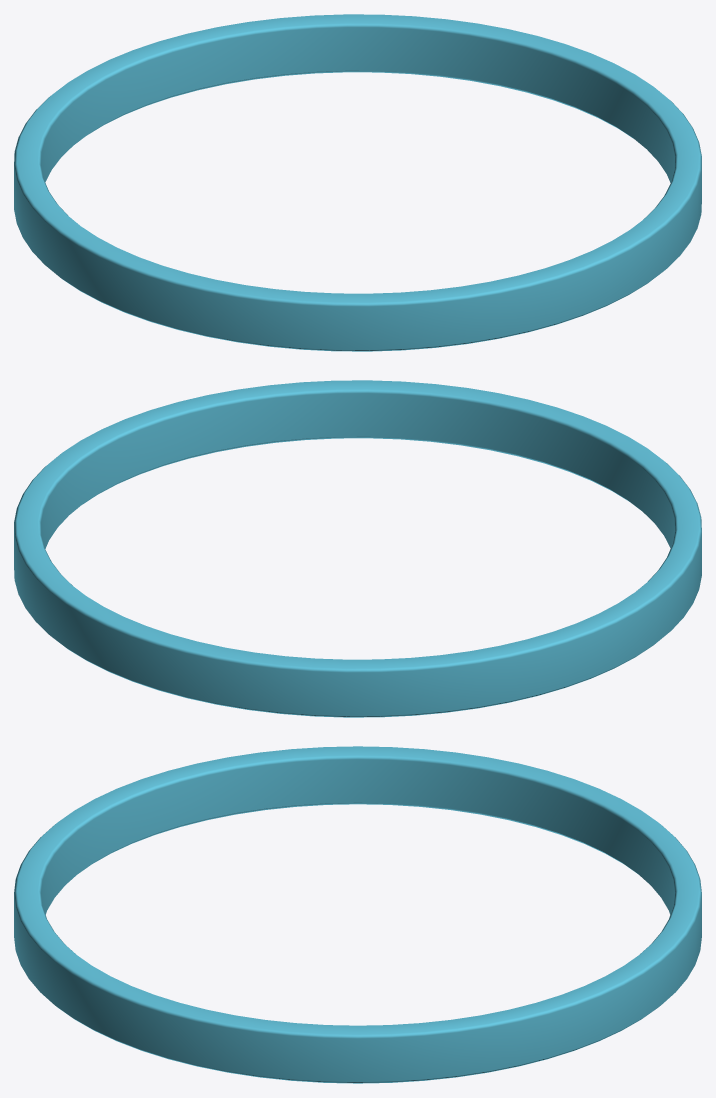
3 renders of one model, top to bottom at view 1: azimuth 30°, elevation 25°; view 2: azimuth 150°, elevation 25°; view 3: azimuth 270°, elevation 25°, orthographic.
Parts seen in each view (by area): view 1: seal_body; view 2: seal_body; view 3: seal_body.
Part boxes in pixels (x1=…): seal_body: x1=14, y1=14, x2=701, y2=351; seal_body: x1=14, y1=380, x2=701, y2=717; seal_body: x1=14, y1=746, x2=701, y2=1083.
Bounding box in the file's own units: 0.1206 × 0.00952 × 0.1206.
